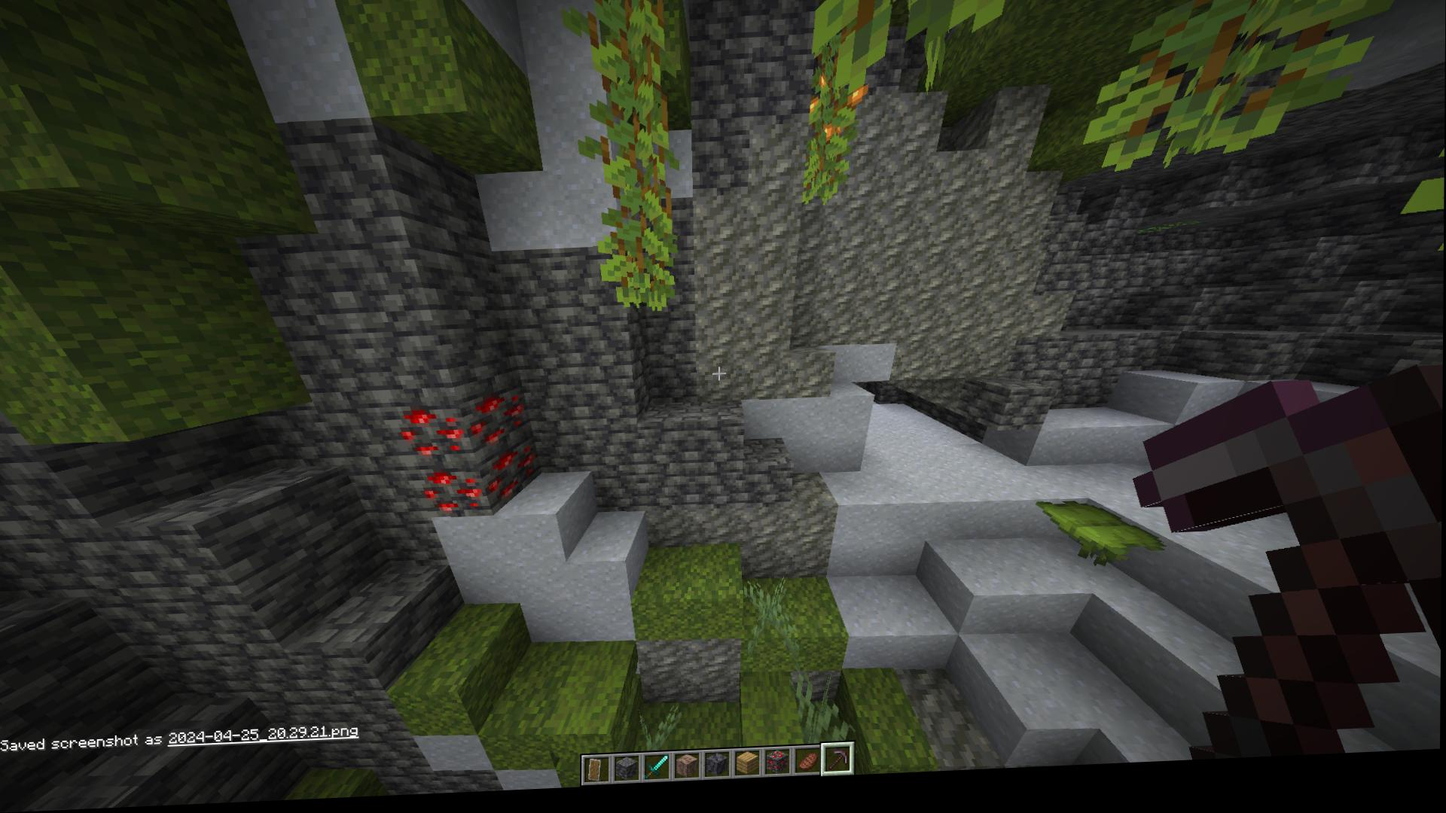redstone ore: (460, 388, 529, 457), (477, 447, 548, 510), (397, 408, 471, 468), (423, 468, 487, 523)
